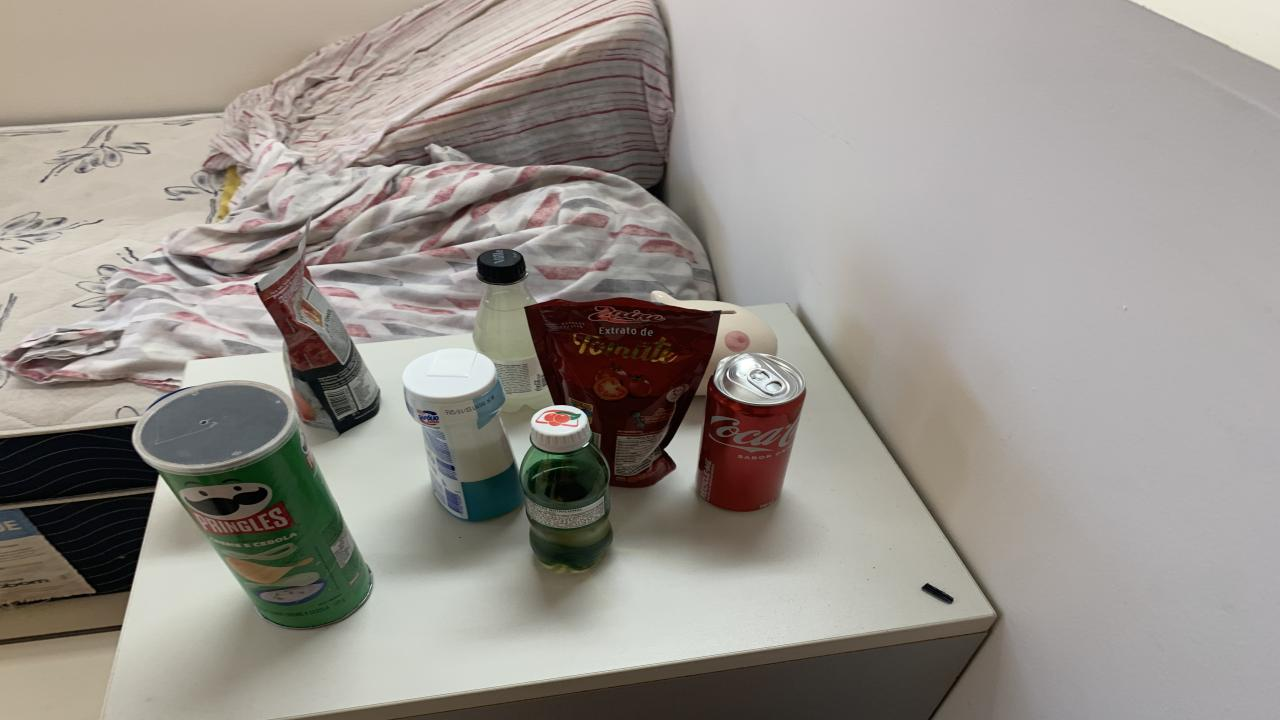Cleaner-Cleanup_Items: (402, 349, 522, 521)
Coke-Drinks: (698, 352, 805, 512)
Guarana-Drinks: (520, 405, 612, 570)
Pig_Safe-Miscellaneous: (650, 291, 778, 396)
Pringles-Snacks: (132, 381, 372, 628)
Soda-Drinks: (472, 249, 550, 412)
Tomato_Sauce-Pantry_Items: (525, 298, 720, 488), (255, 231, 380, 433)
